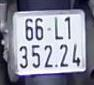1: (63, 13, 74, 42)
2: (57, 43, 70, 70), (43, 43, 54, 70)
3: (17, 46, 30, 70)
4: (70, 41, 79, 69)
5: (30, 42, 43, 71)
6: (34, 14, 47, 42), (23, 17, 34, 43)
L: (53, 14, 64, 41)
